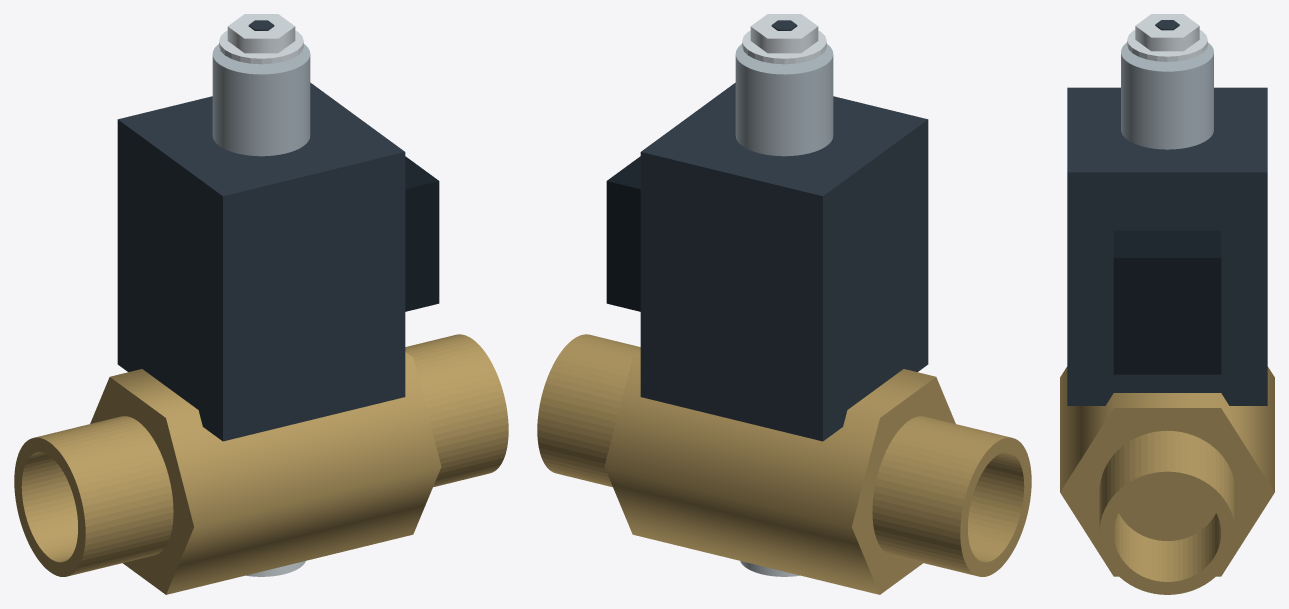
Rendered from water-valve.glb.
The picture shows the model from 3 angles, left to right: view 1: azimuth 30°, elevation 25°; view 2: azimuth 150°, elevation 25°; view 3: azimuth 270°, elevation 25°; orthographic projection. The views are drawn at different scales.
Parts seen in each view (by area): view 1: Cụm van điện từ; view 2: Cụm van điện từ; view 3: Cụm van điện từ.
Part boxes in pixels (x1,y1,x2,y2): Cụm van điện từ: (14,14,508,594); Cụm van điện từ: (537,14,1031,594); Cụm van điện từ: (1060,14,1274,594).
Size of the model in its own units: 0.65 by 0.7823 by 0.3.
